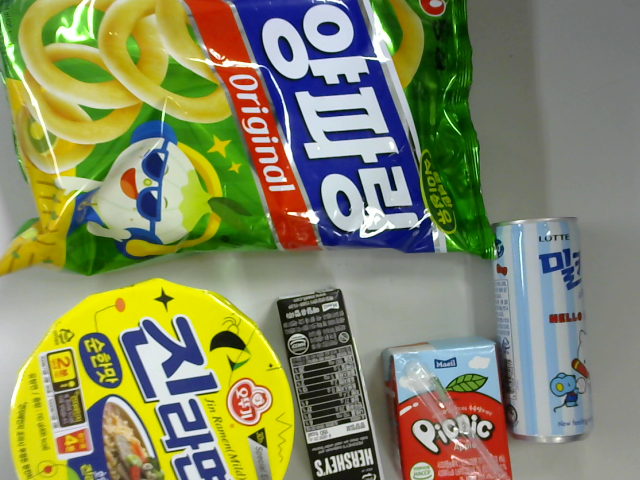Hush_Choco_Drink: (283, 286, 387, 480)
Jinlamyeon_Mild_Taste_Large_Cup: (4, 272, 306, 480)
Milkies_250ml: (481, 208, 604, 453)
Oninon_Ring: (9, 1, 502, 274)
Picnic_Apple: (374, 330, 522, 480)
